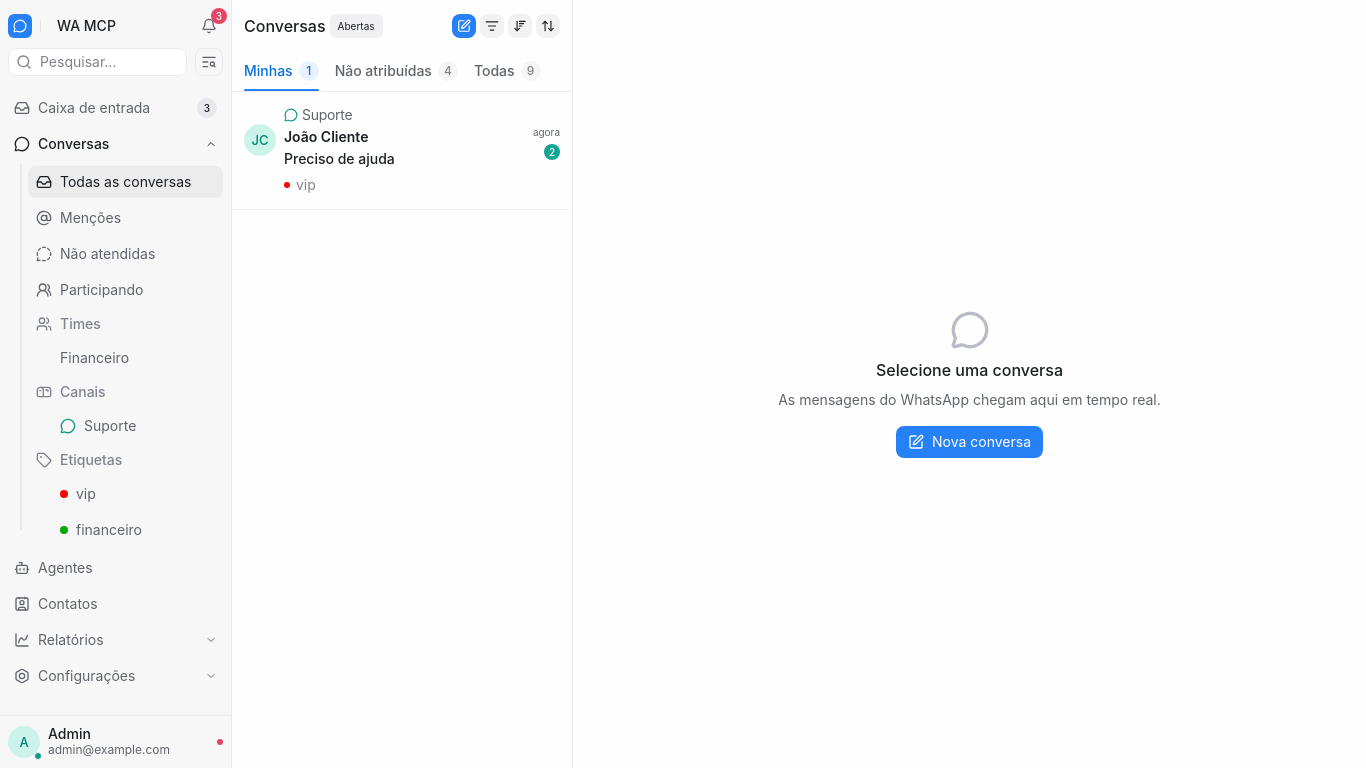
notifications inbox › shows the empty state
Expected: the heading "Conversas" is shown, [244,14,326,38]
Click the button "Caixa de entrada 3" at coordinates (116, 108), box [8,92,223,124]
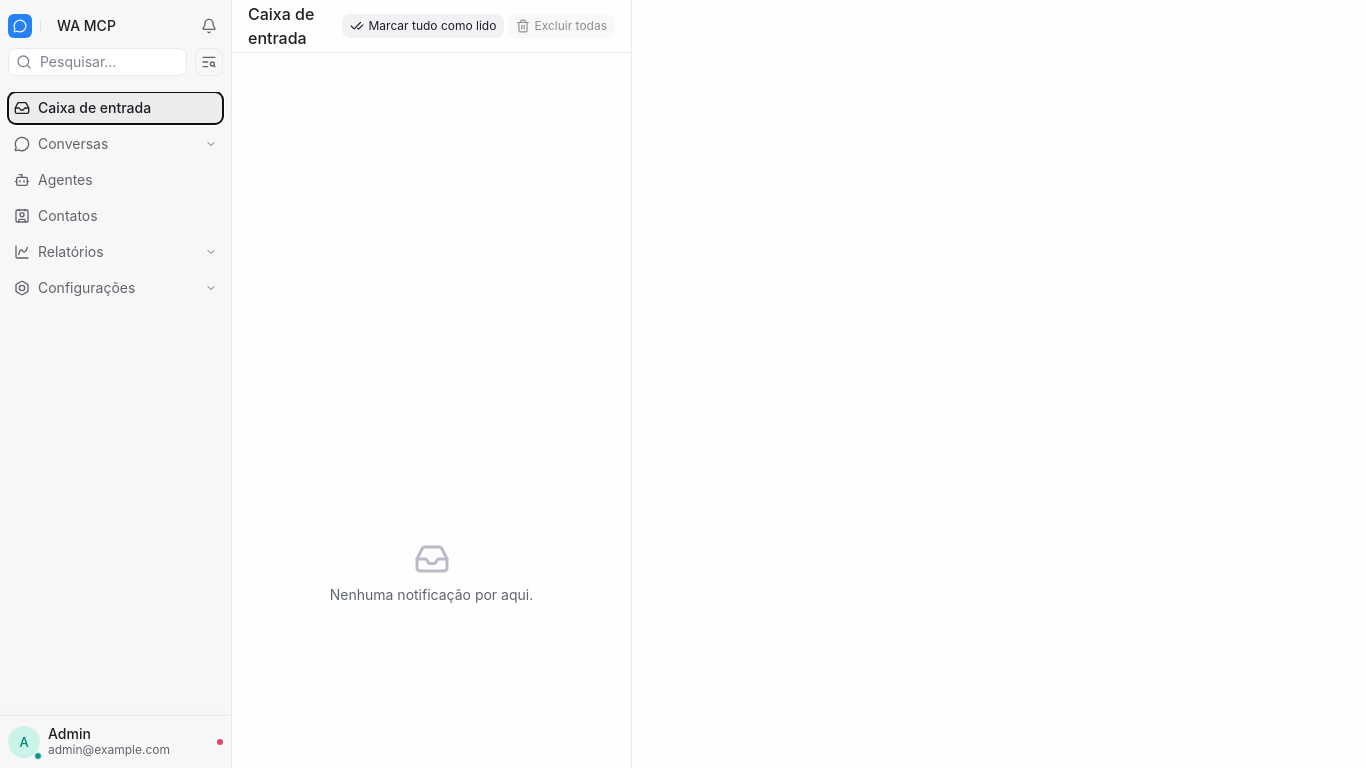
Expected: the text "Nenhuma notificação por aqui." is shown, [330,585,533,605]
